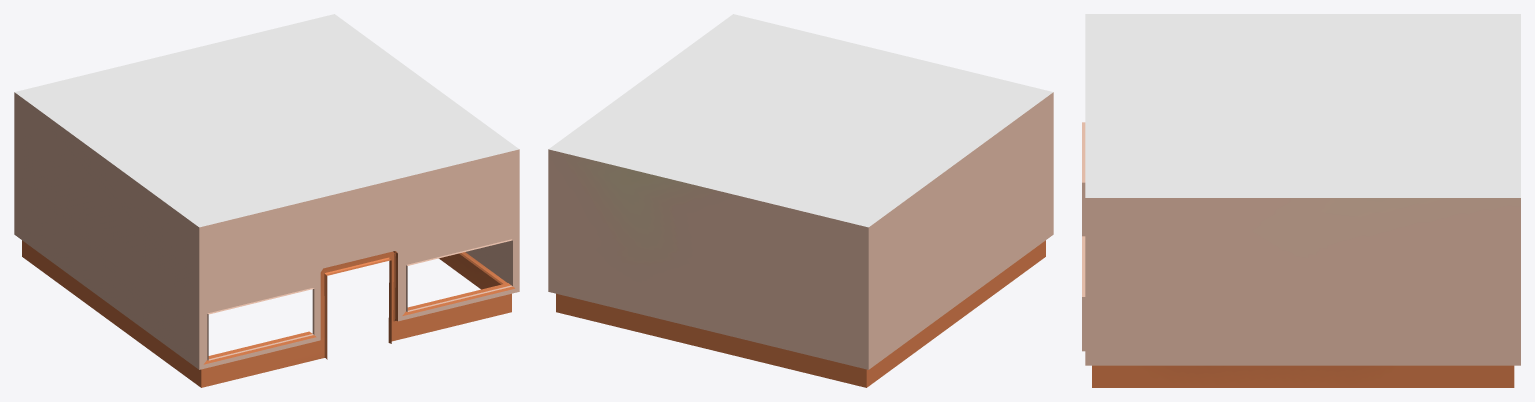
File: WallRoof.fbx
The picture shows the model from 3 angles, left to right: view 1: azimuth 30°, elevation 25°; view 2: azimuth 150°, elevation 25°; view 3: azimuth 270°, elevation 25°; orthographic projection. The views are drawn at different scales.
Visible parts, largest first — view 1: WallRoof; view 2: WallRoof; view 3: WallRoof.
Boxes of the visible parts, x1,y1,x2,y2 form: WallRoof: (14, 14, 519, 387); WallRoof: (548, 14, 1053, 387); WallRoof: (1082, 14, 1520, 387).
Size of the model in its own units: 202 by 97.66 by 200.
